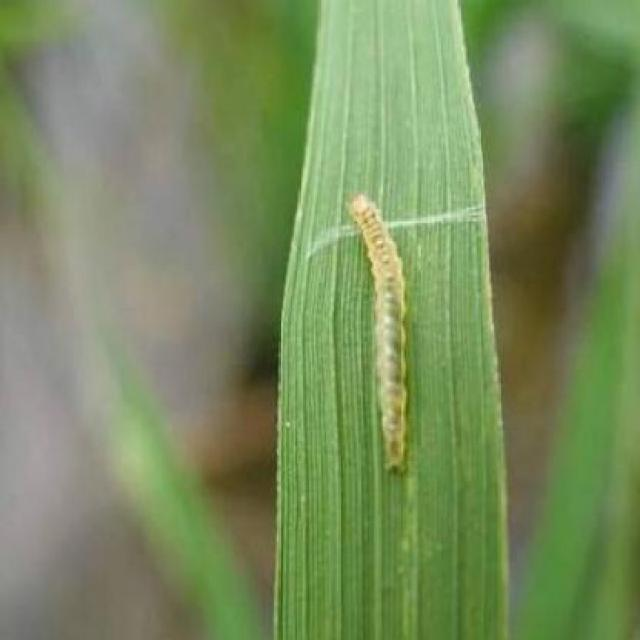leaf-folder: (338, 168, 429, 494)
